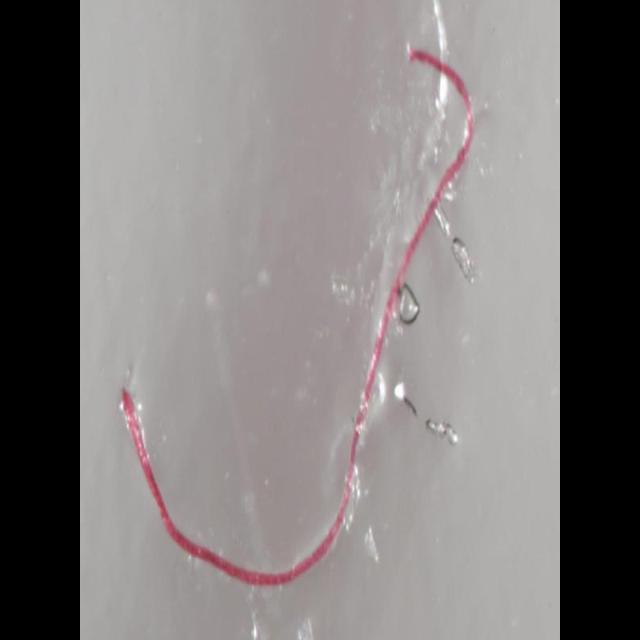Fibre: (119, 36, 477, 590)
